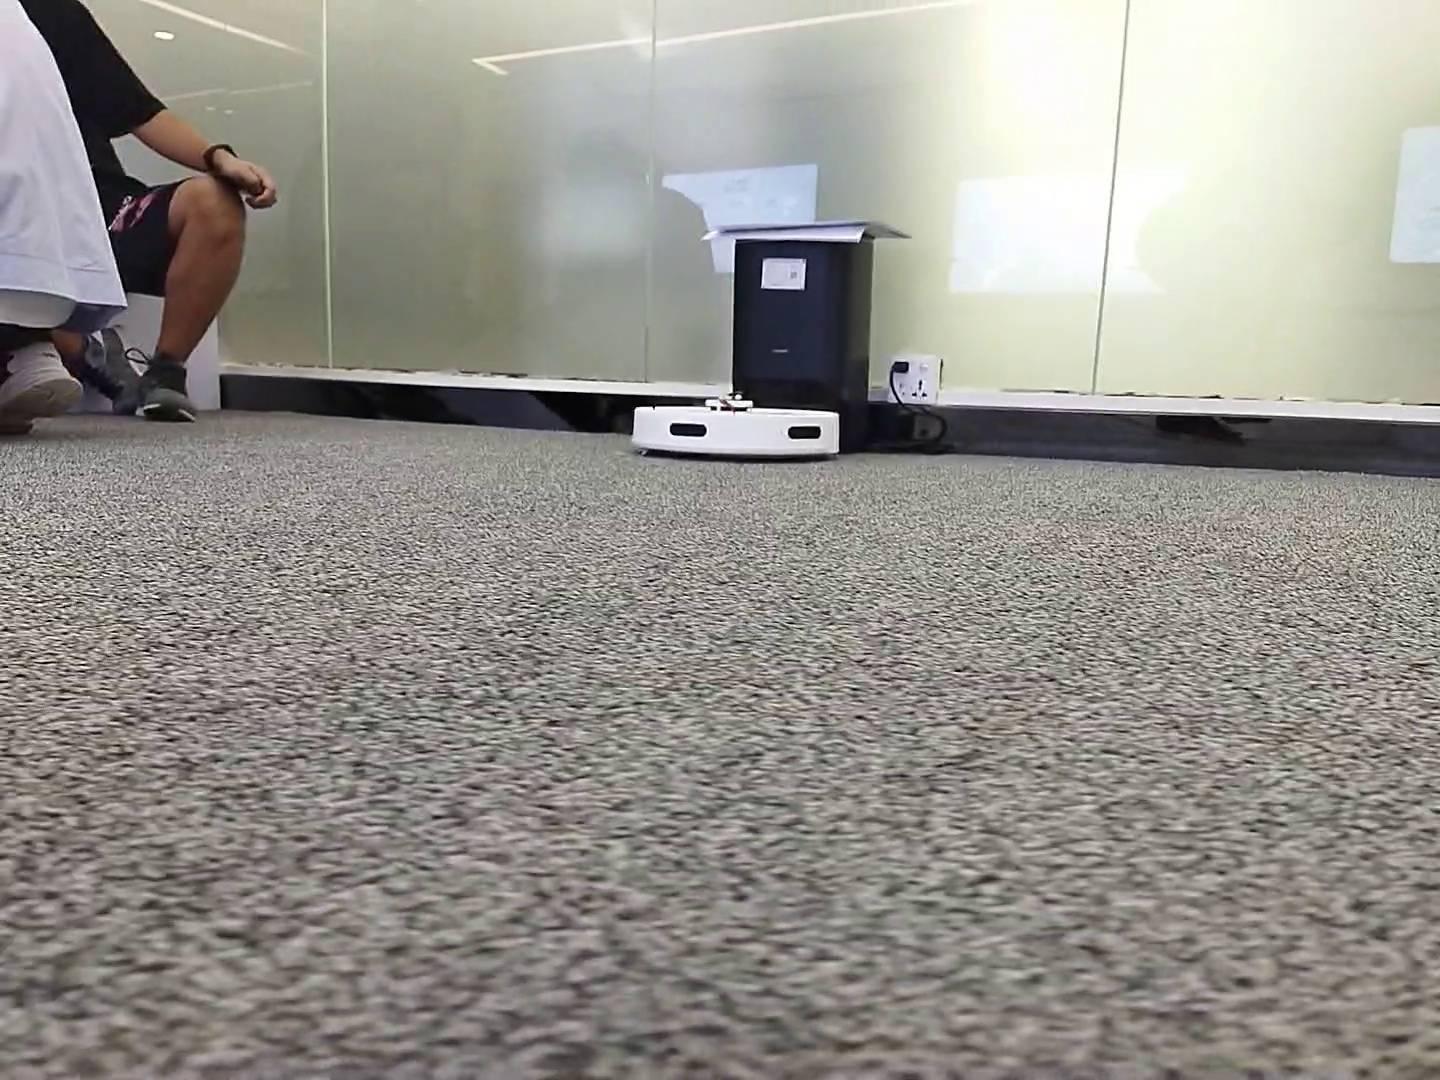dust collecting barrel: (732, 234, 873, 449)
